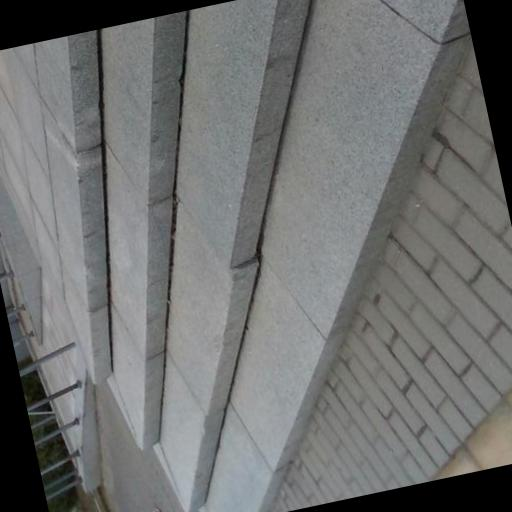stairs: (50, 0, 470, 511), (34, 30, 111, 380)
